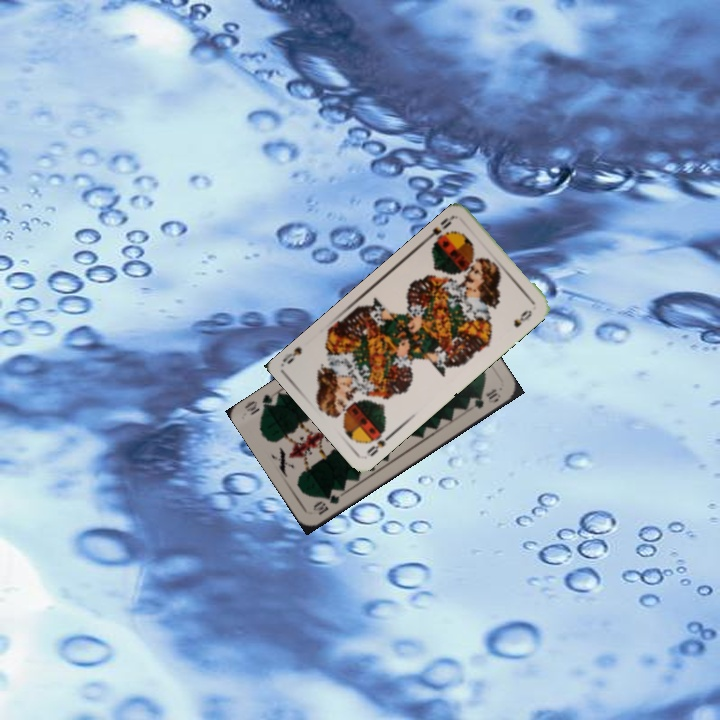G10: (309, 485, 346, 518)
SO: (423, 211, 459, 248), (363, 428, 396, 459)
